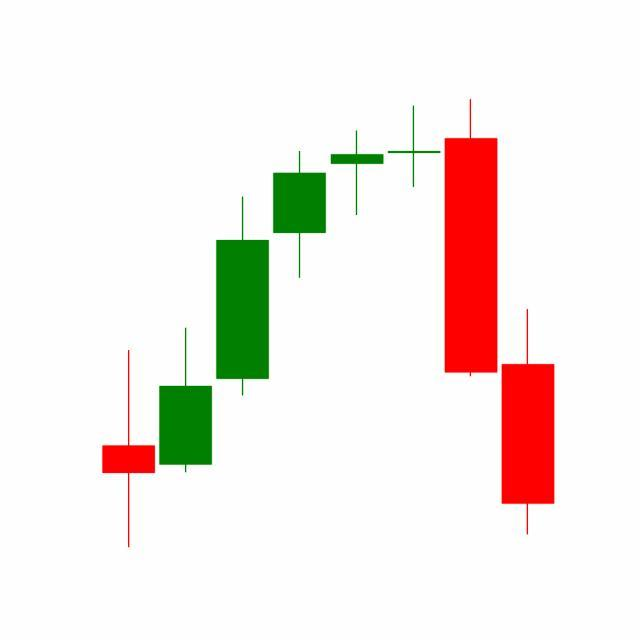Three Line Strike: (271, 99, 501, 381)
